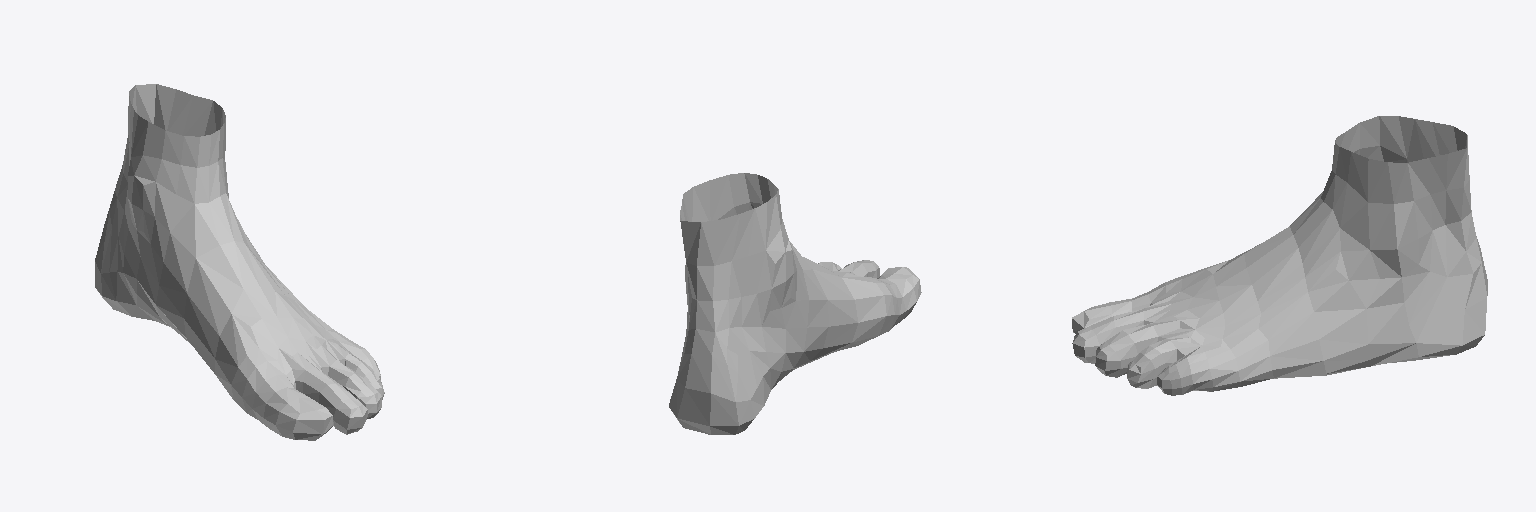
The model's file is 0_4_FootPolygonalLeft.obj.
3 renders of one model, left to right at view 1: azimuth 30°, elevation 25°; view 2: azimuth 150°, elevation 25°; view 3: azimuth 270°, elevation 25°, orthographic.
Visible parts, largest first — view 1: polySurface1156.002; view 2: polySurface1156.002; view 3: polySurface1156.002.
Part boxes in pixels (x1,y1,x2,y2): polySurface1156.002: (95,84,384,440); polySurface1156.002: (669,173,921,434); polySurface1156.002: (1072,116,1487,395).
Size of the model in its own units: 0.0725 by 0.1078 by 0.1818.